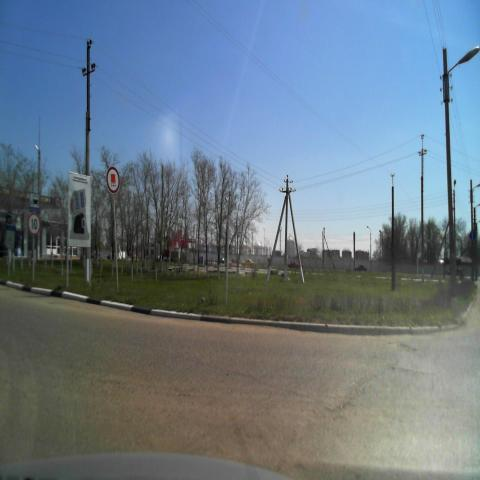3_32: (106, 166, 120, 193)
